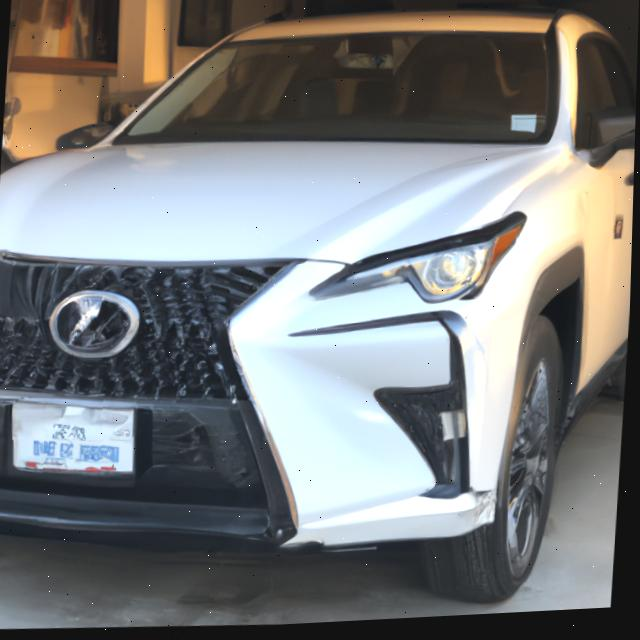LicensePlate: (14, 403, 137, 474)
